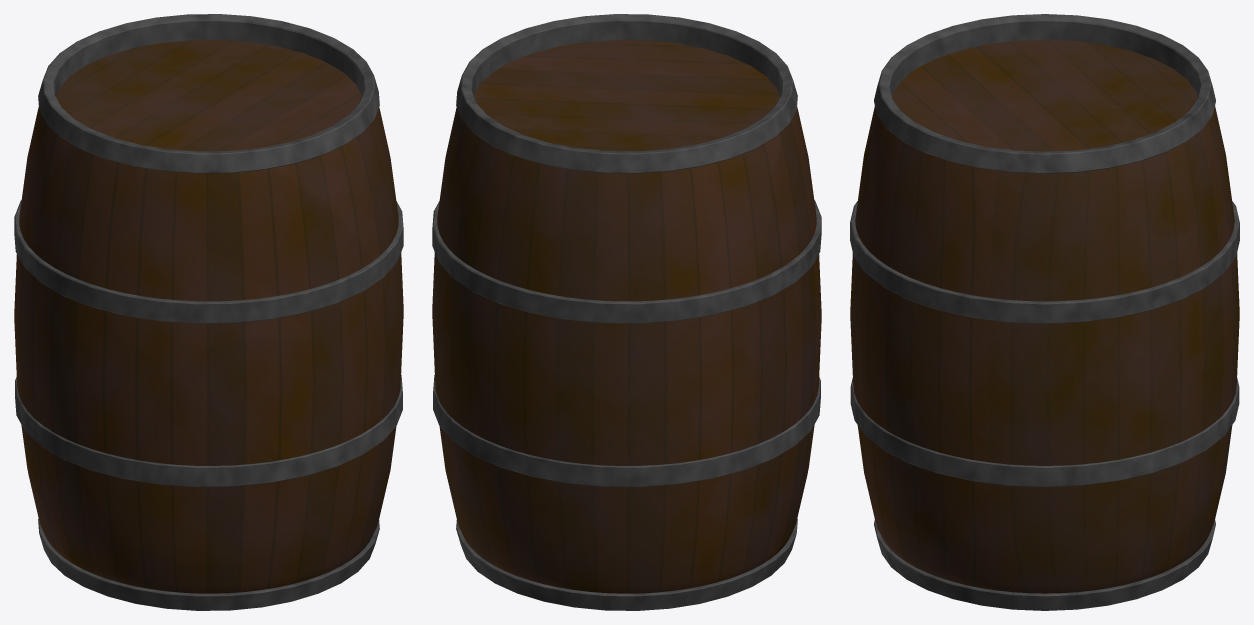
The model's file is Fass.fbx.
The picture shows the model from 3 angles, left to right: view 1: azimuth 30°, elevation 25°; view 2: azimuth 150°, elevation 25°; view 3: azimuth 270°, elevation 25°; orthographic projection.
Parts seen in each view (by area): view 1: Fass; view 2: Fass; view 3: Fass.
Boxes of the visible parts, bbox=[...] form: Fass: bbox=[14, 14, 403, 610]; Fass: bbox=[432, 14, 821, 610]; Fass: bbox=[850, 14, 1239, 610].
Size of the model in its own units: 198 by 198 by 256.
Materials: 2 (2 with a texture image).
